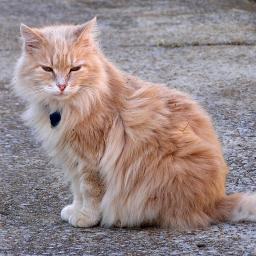catnose: (57, 83, 67, 92)
